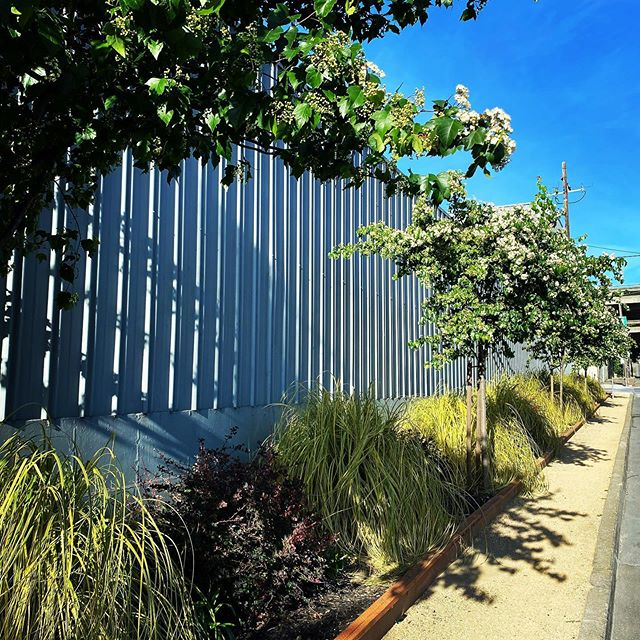sky: (407, 1, 627, 242)
tree: (1, 1, 429, 216), (378, 178, 612, 526)
